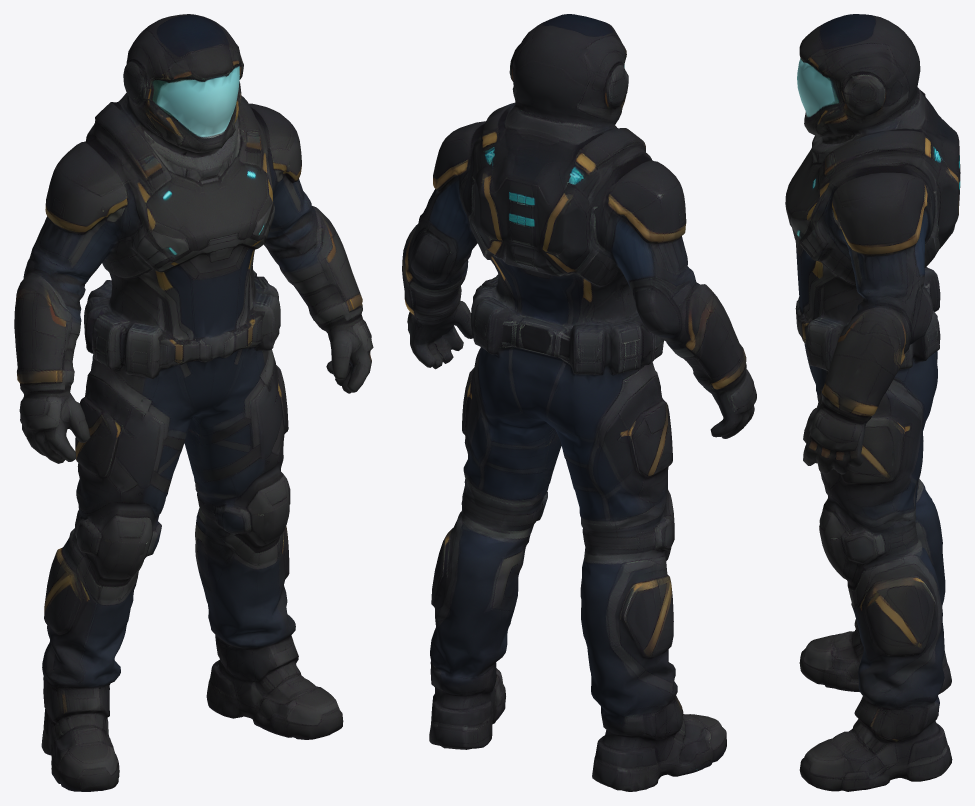
The model's file is astronaut-operator-textured.glb.
3 renders of one model, left to right at view 1: azimuth 30°, elevation 25°; view 2: azimuth 150°, elevation 25°; view 3: azimuth 270°, elevation 25°, orthographic. The views are drawn at different scales.
Bounding box in the file's own units: 0.983 × 2 × 0.445.
Materials: 1 (1 with a texture image).
